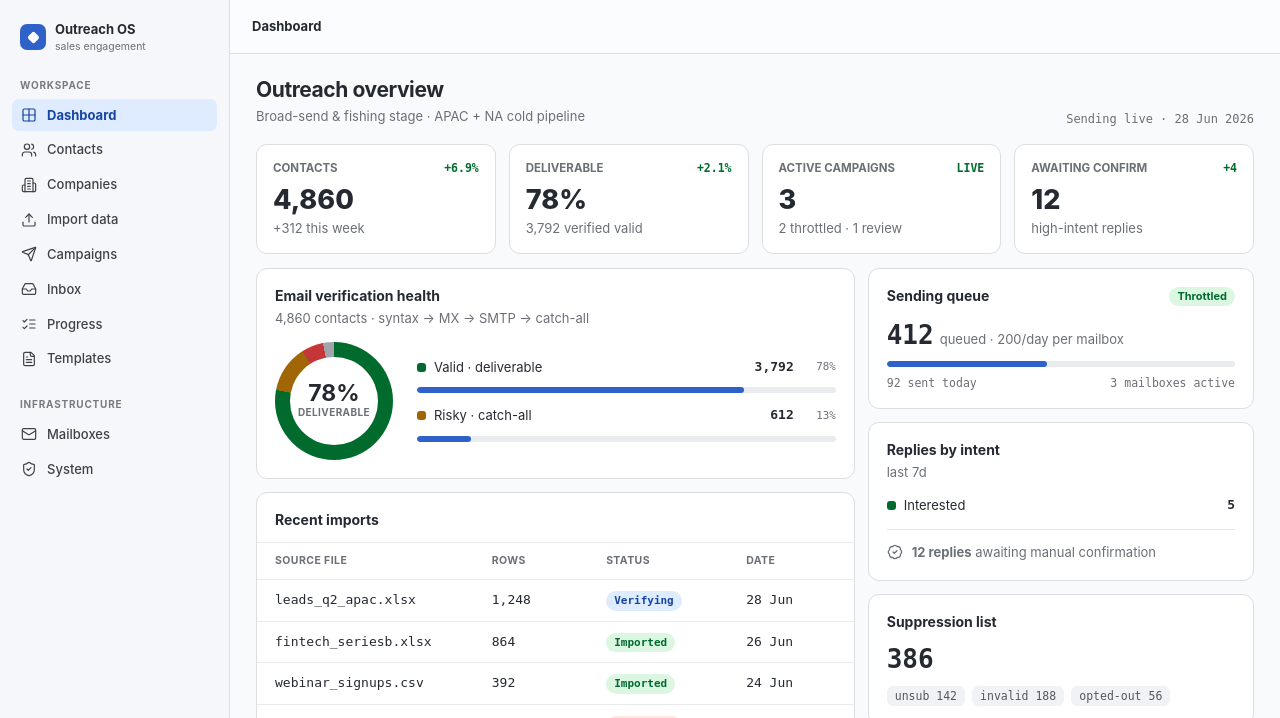
Outreach OS shell › navigates to contacts and renders email status plus outreach stage
Click the button "Contacts". click: (114, 150)
box: [12,133,217,166]
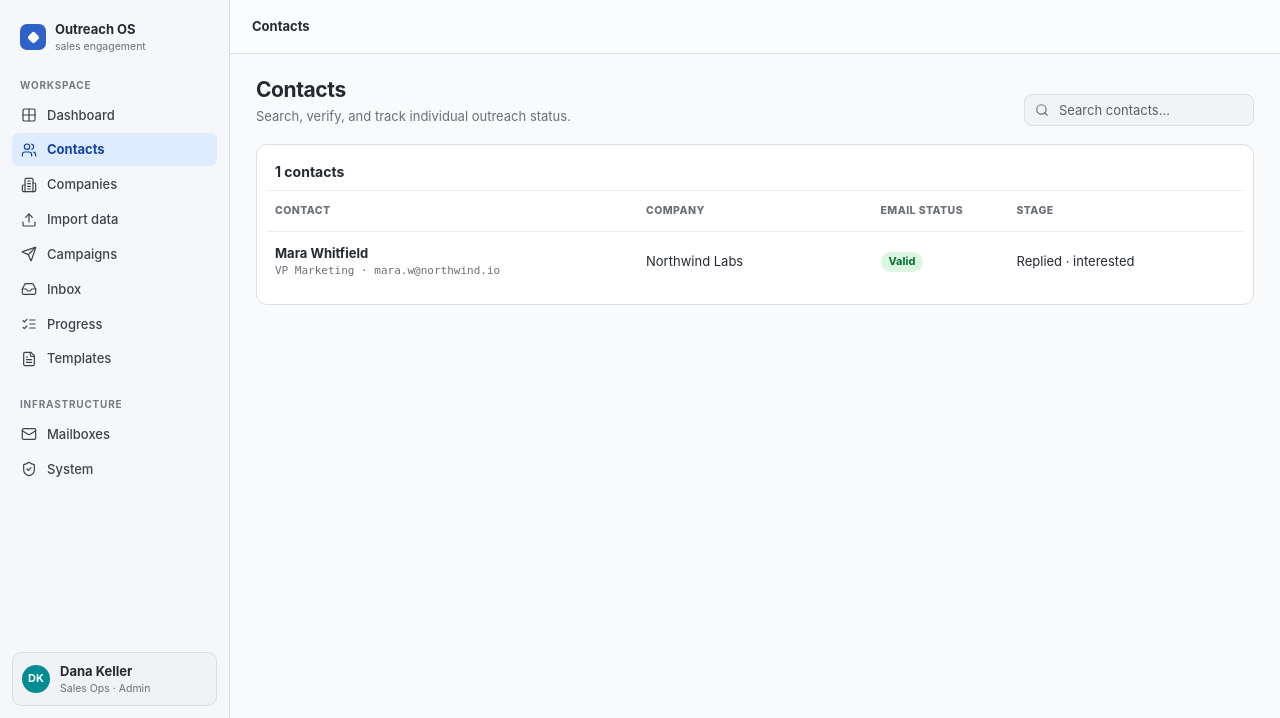
Now the heading "Contacts" is shown, box [256,77,346,102]
Now the search field labelled "Search contacts" is shown, box [1057,100,1243,120]
Now the text "Replied · interested" is shown, box [1016,253,1134,269]
